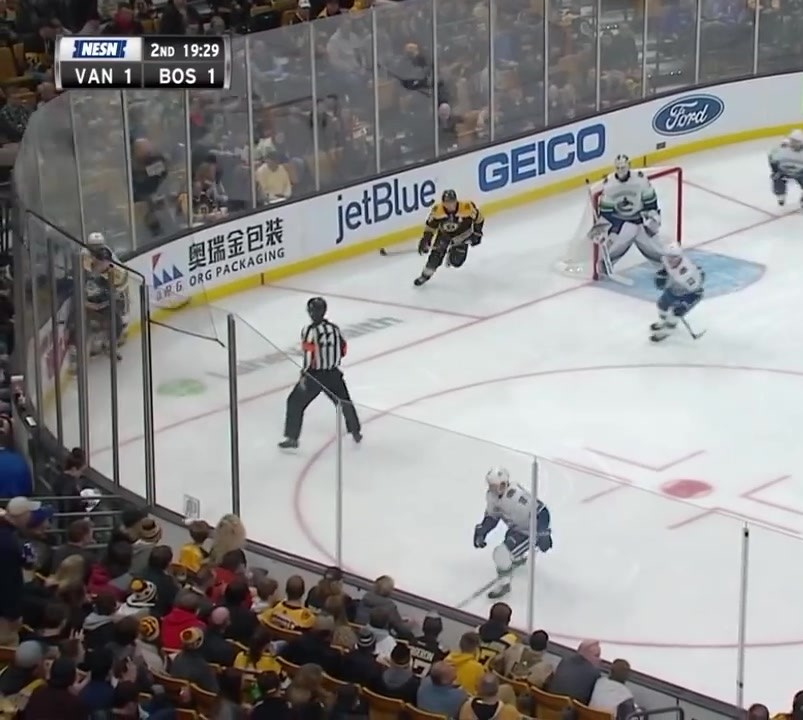Geico: (468, 123, 621, 198)
